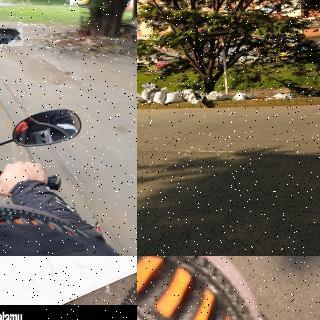Garbage: (0, 25, 23, 47), (140, 81, 159, 103), (153, 87, 169, 106), (207, 91, 232, 102), (233, 92, 260, 101), (165, 91, 184, 103), (137, 91, 145, 103)
